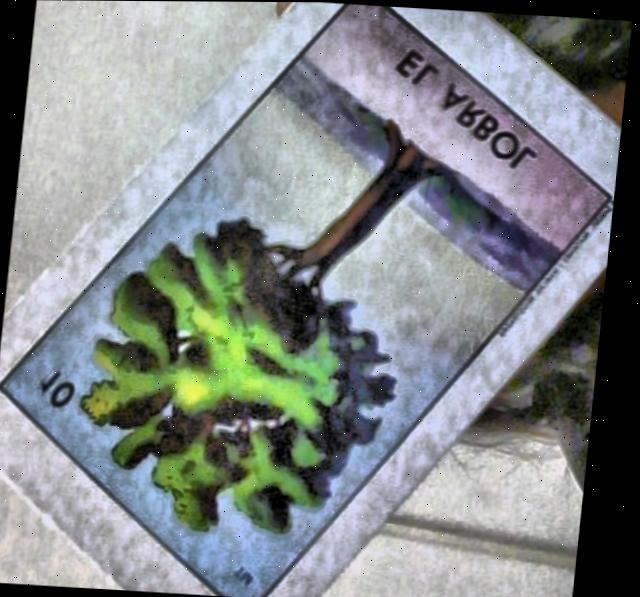El Arbol: (3, 3, 611, 597)
